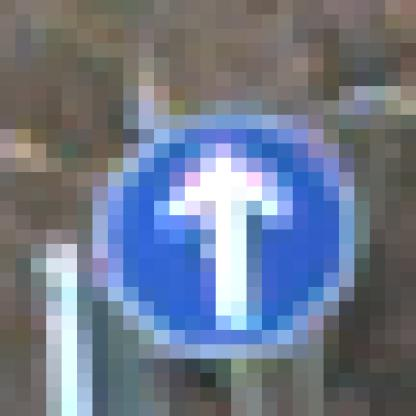AheadOnly: (93, 87, 340, 345)
